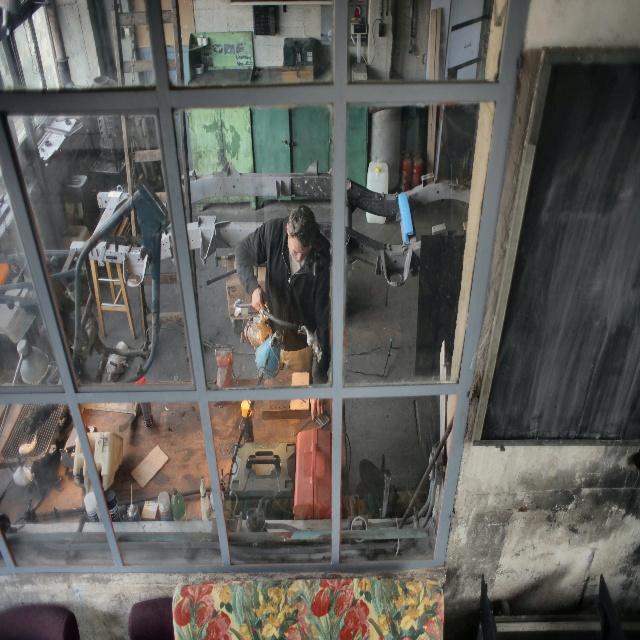Sin_guantes: (251, 287, 268, 312), (310, 398, 326, 422)
